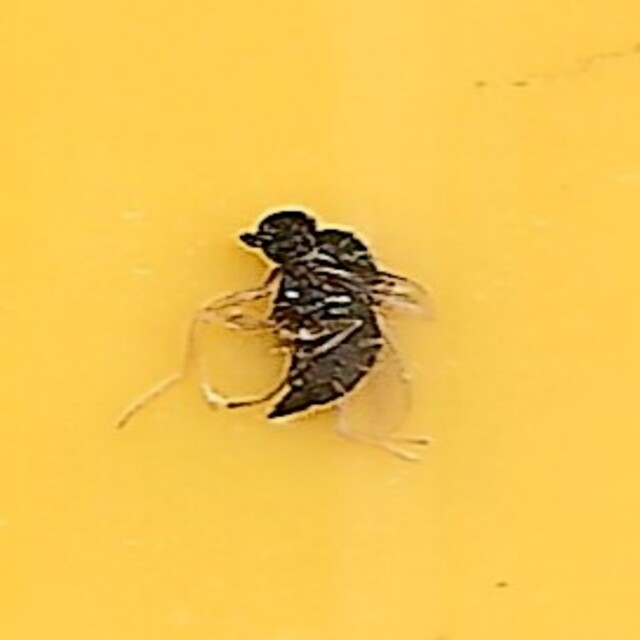Brachycera: (235, 201, 405, 439)
